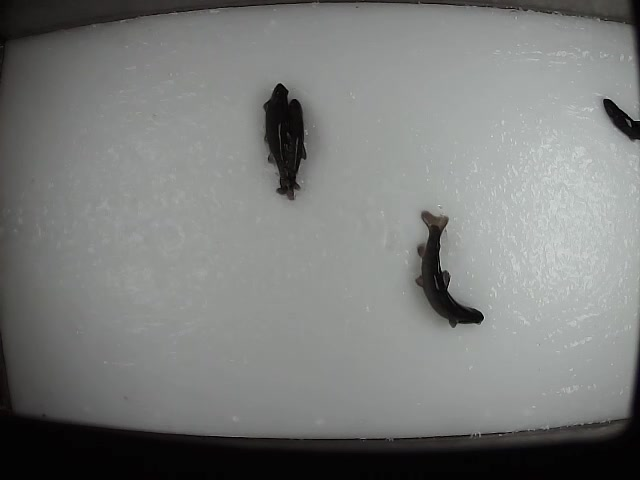Fish: (415, 210, 484, 328), (263, 84, 289, 194), (281, 99, 307, 200)
